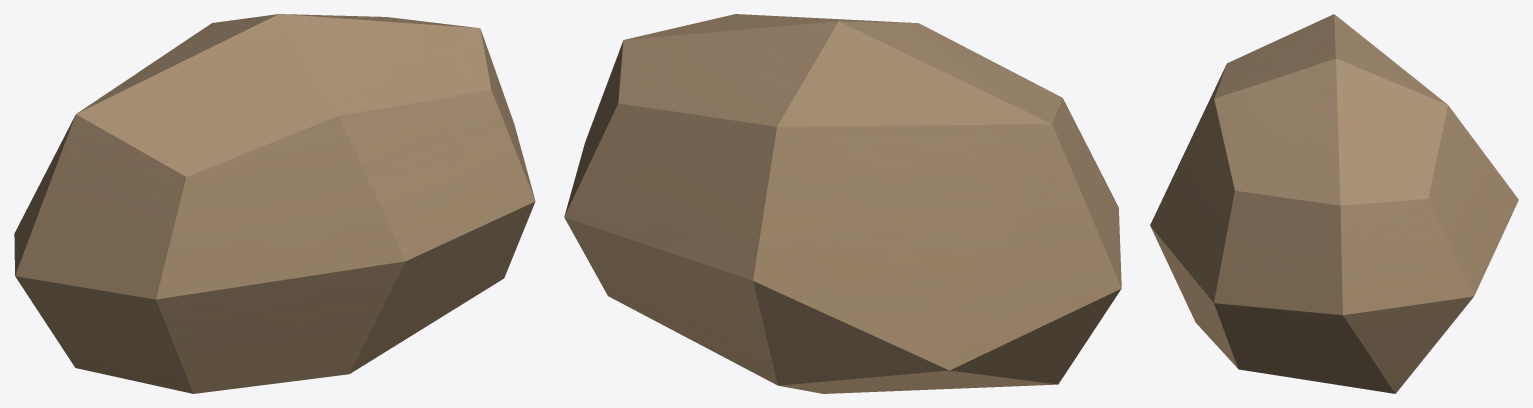
File: SobbleStoneWall_00.fbx
The picture shows the model from 3 angles, left to right: view 1: azimuth 30°, elevation 25°; view 2: azimuth 150°, elevation 25°; view 3: azimuth 270°, elevation 25°; orthographic projection. The views are drawn at different scales.
Visible parts, largest first — view 1: SobbleStoneWall_00; view 2: SobbleStoneWall_00; view 3: SobbleStoneWall_00.
Boxes of the visible parts, x1=… form: SobbleStoneWall_00: x1=14, y1=14, x2=535, y2=393; SobbleStoneWall_00: x1=564, y1=14, x2=1121, y2=393; SobbleStoneWall_00: x1=1150, y1=14, x2=1518, y2=393.
Bounding box in the file's own units: 83.62 × 56.01 × 59.15.
